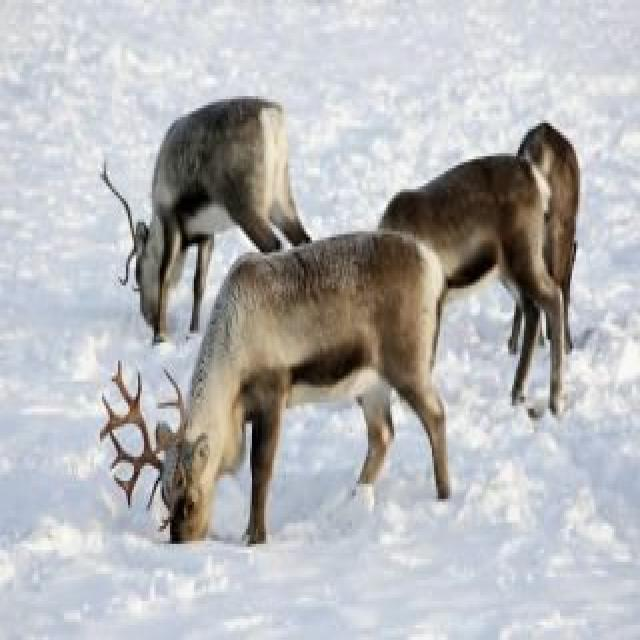Reindeer: (96, 215, 458, 544), (372, 111, 582, 421), (90, 85, 324, 339)
